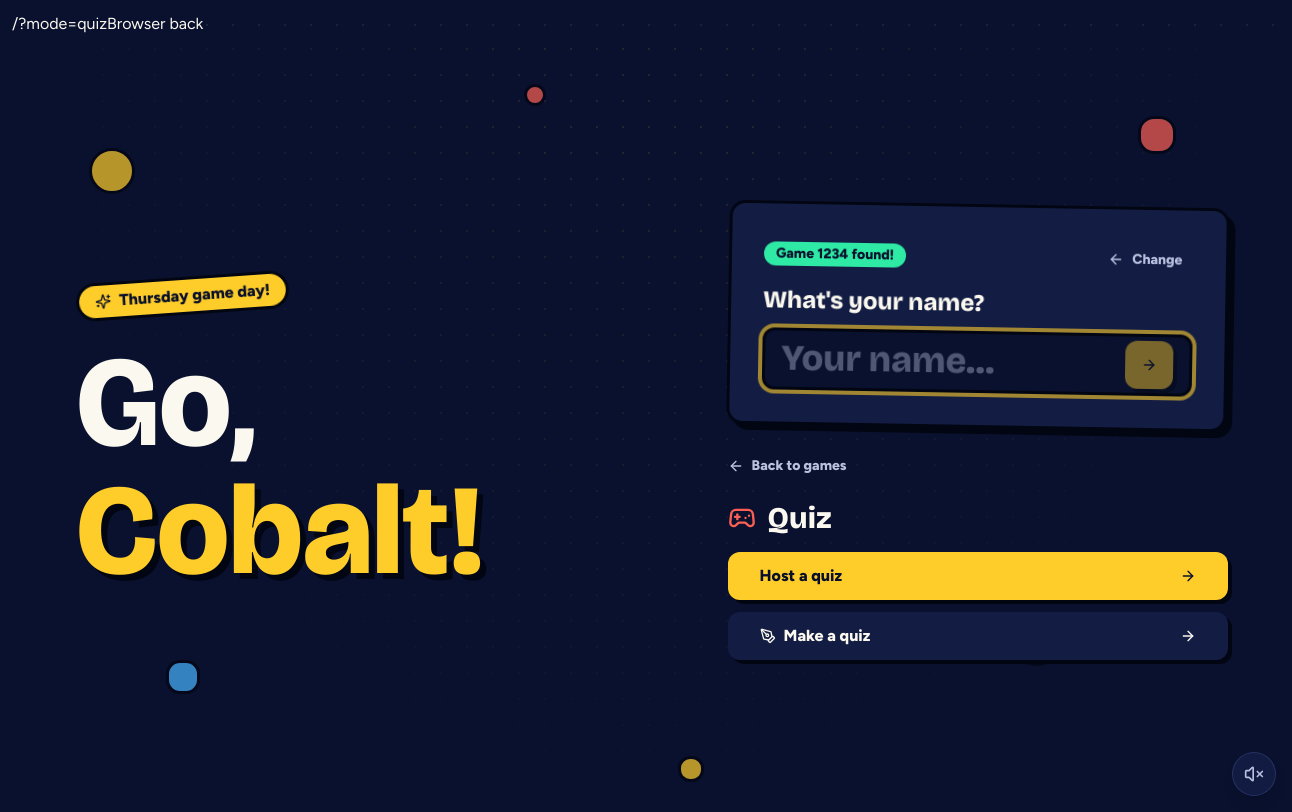
Test: front-page game navigation › joins quiz independently of the selected game
This screenshot has width=1292, height=812.
Earlier steps of the test are not shown.
Type "Simon" into the field labelled "What's your name?" at (947, 362), box [780,331,1114,392]
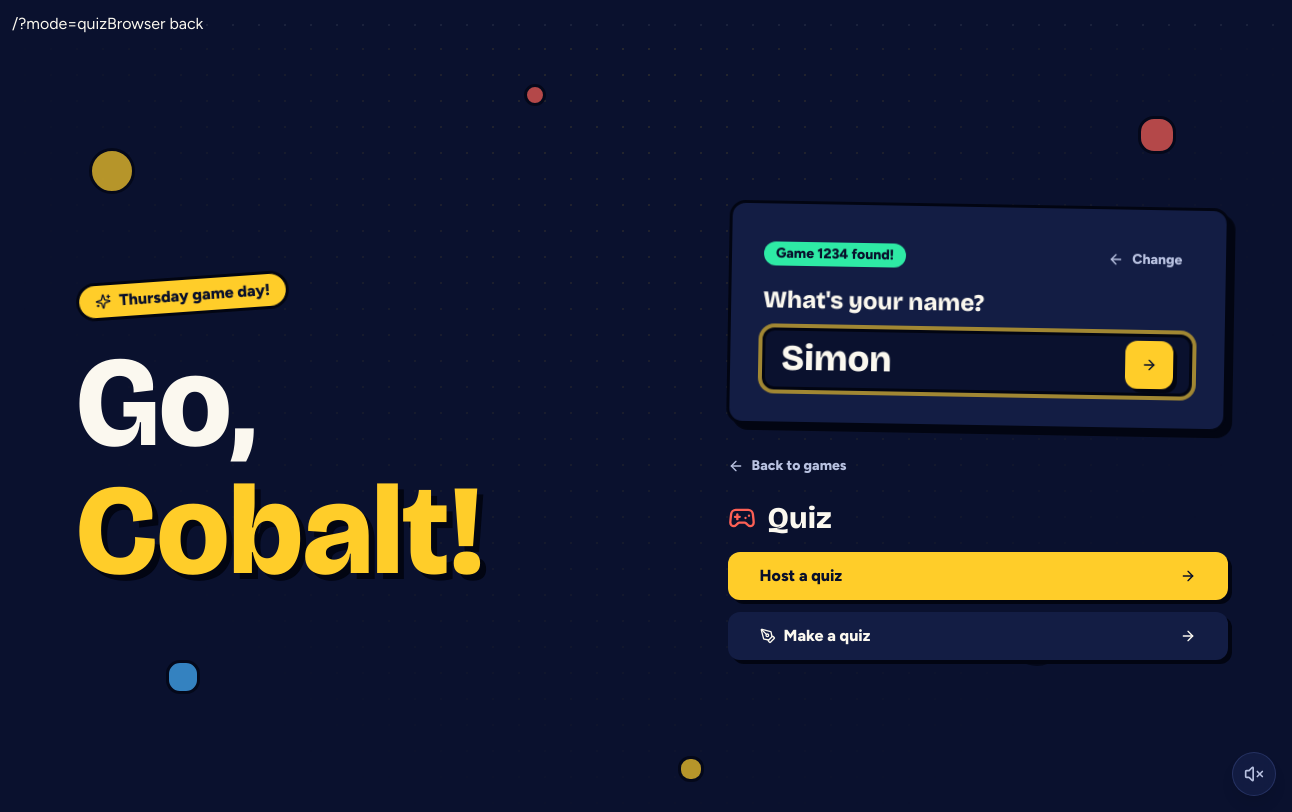
Click the button named "Join game" at (1149, 365), box [1125,341,1174,389]
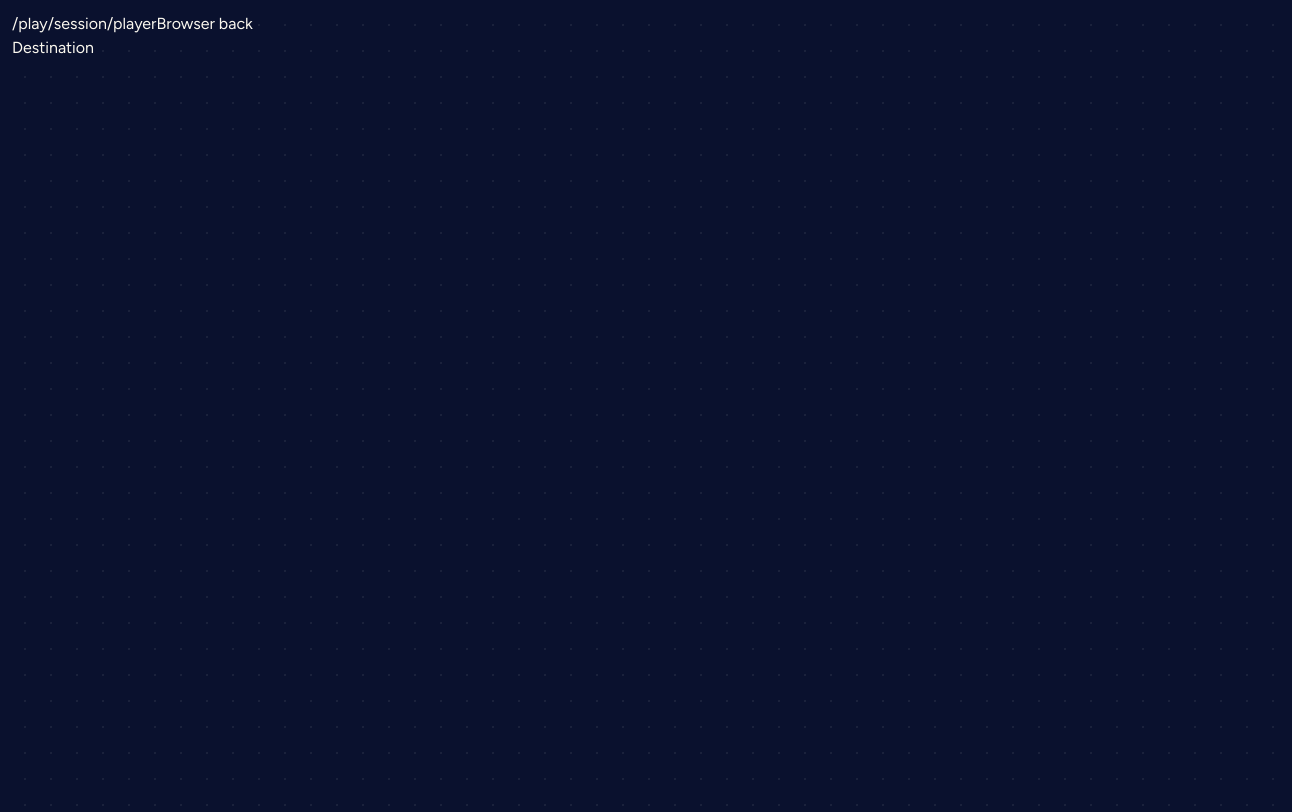
Check: the text with test id "location" reads "/play/session/player", box [12,14,156,33]
